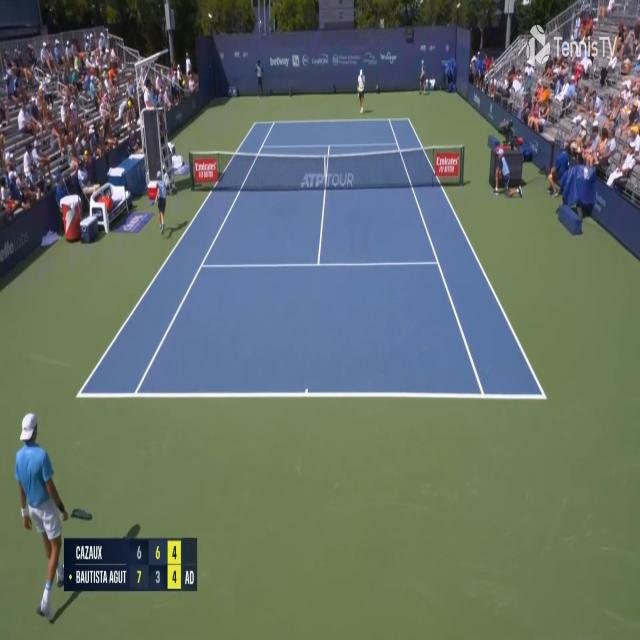tennis-player: (13, 408, 92, 627), (356, 69, 366, 114)
